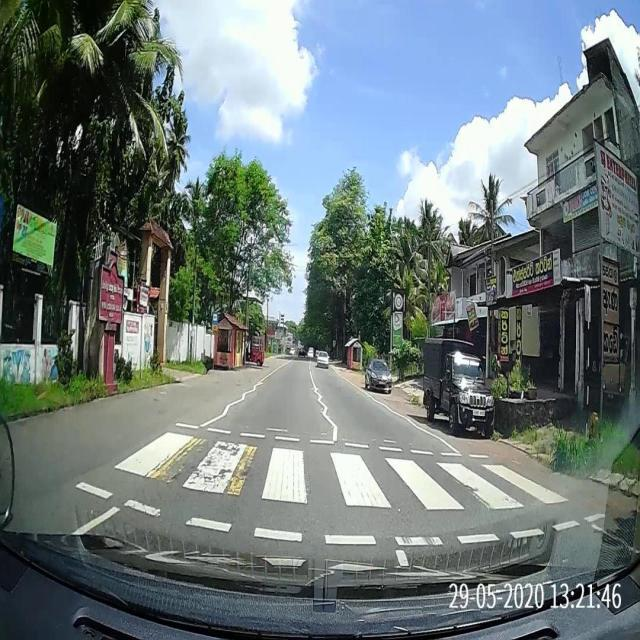Crosswalk: (100, 429, 572, 513)
